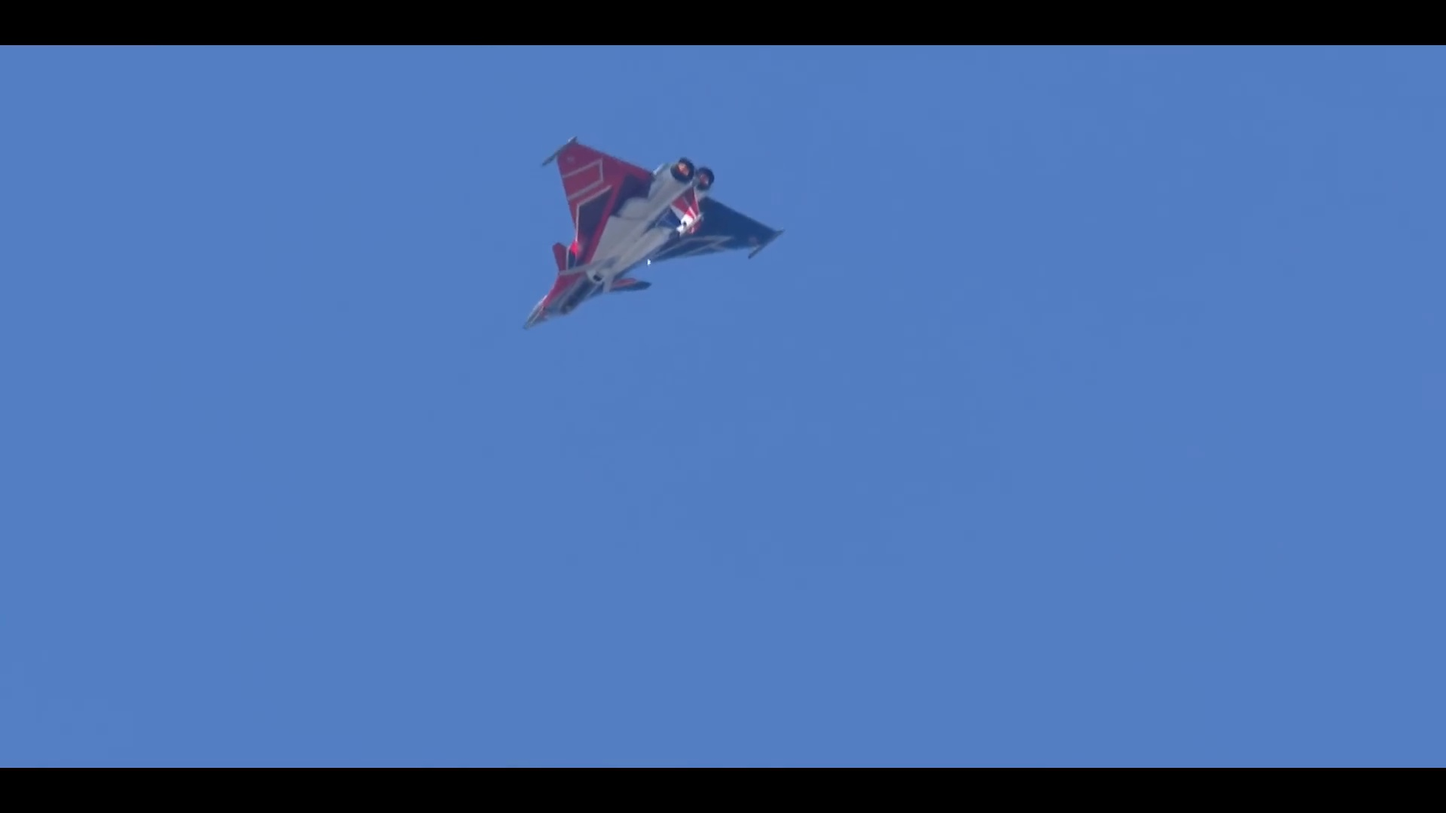Rafale: (512, 132, 794, 345)
